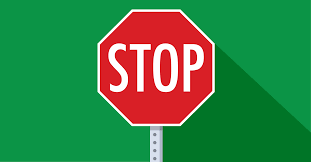stop sign: (95, 9, 214, 127)
